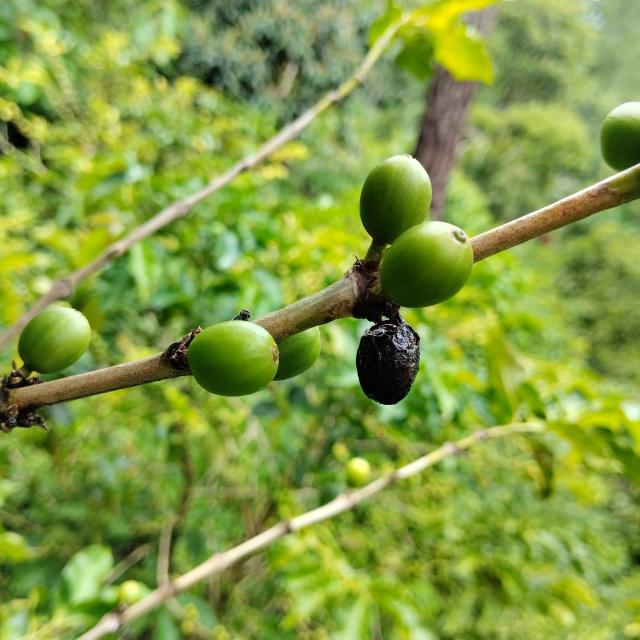green: (381, 221, 474, 308), (187, 320, 279, 397), (360, 154, 432, 245), (17, 306, 90, 374), (601, 101, 640, 170), (273, 327, 321, 381)
red: (356, 312, 420, 405)
